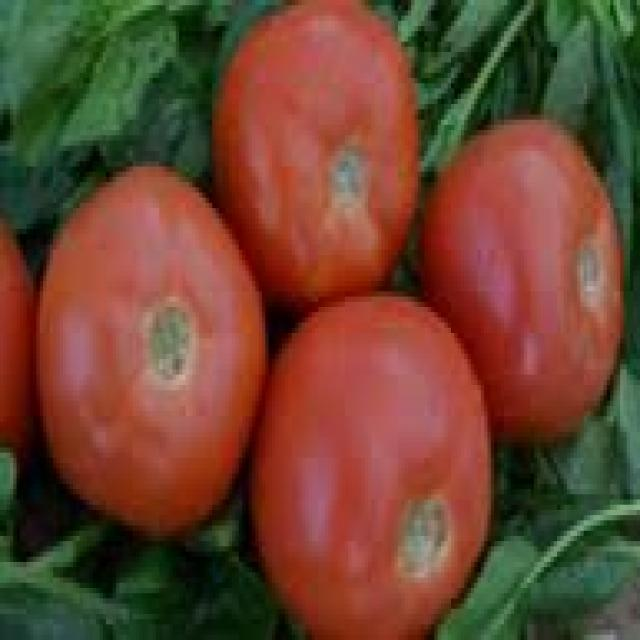Fresh_tomato: (258, 293, 485, 640), (35, 174, 246, 509), (432, 119, 620, 425), (218, 5, 415, 271)
